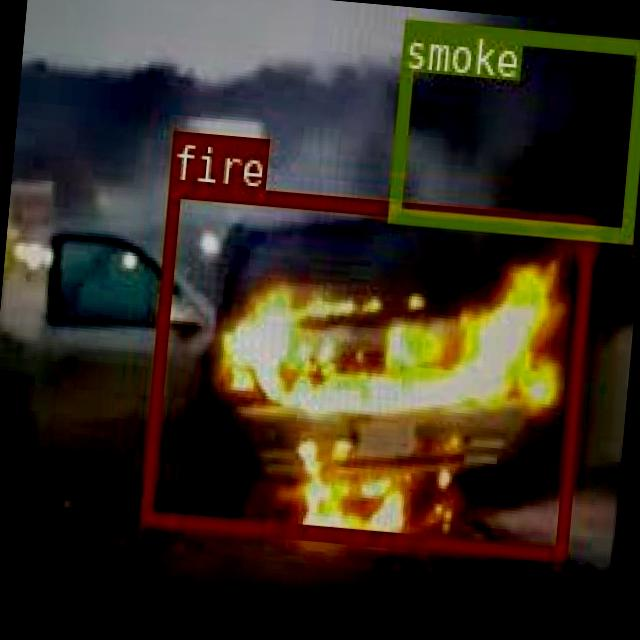fire: (139, 180, 592, 560)
smoke: (387, 18, 640, 238)
